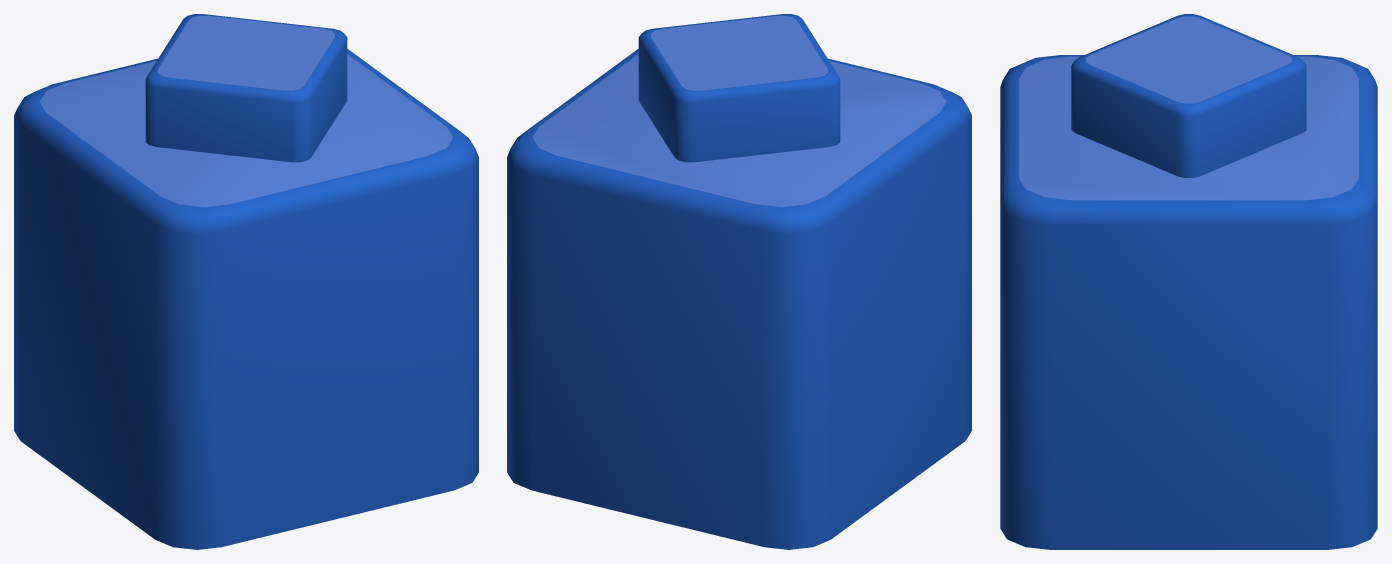
Rendered from block_diamond.fbx.
3 views of the same model, side by side, from view 1: azimuth 30°, elevation 25°; view 2: azimuth 150°, elevation 25°; view 3: azimuth 270°, elevation 25° (orthographic). The views are drawn at different scales.
Visible parts, largest first — view 1: block_diamond; view 2: block_diamond; view 3: block_diamond.
Boxes of the visible parts, x1,y1,x2,y2 form: block_diamond: (14, 14, 478, 549); block_diamond: (507, 14, 971, 549); block_diamond: (1000, 14, 1377, 549).
Size of the model in its own units: 100 by 100 by 120.
